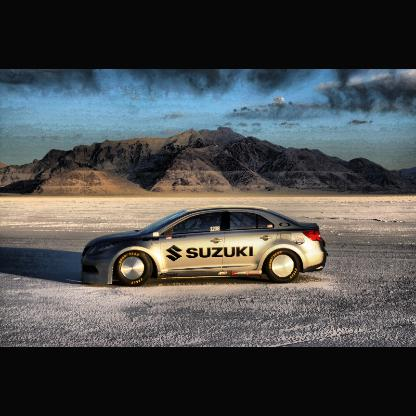Suzuki Kizashi Sedan 2012: (85, 206, 329, 285)
